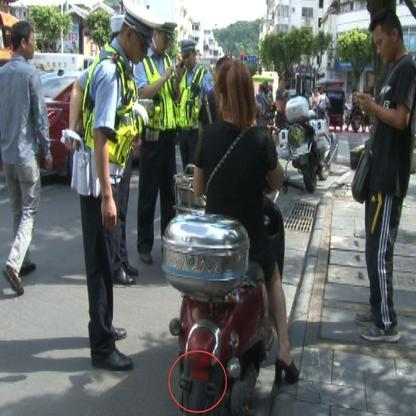target: (166, 58, 299, 407)
